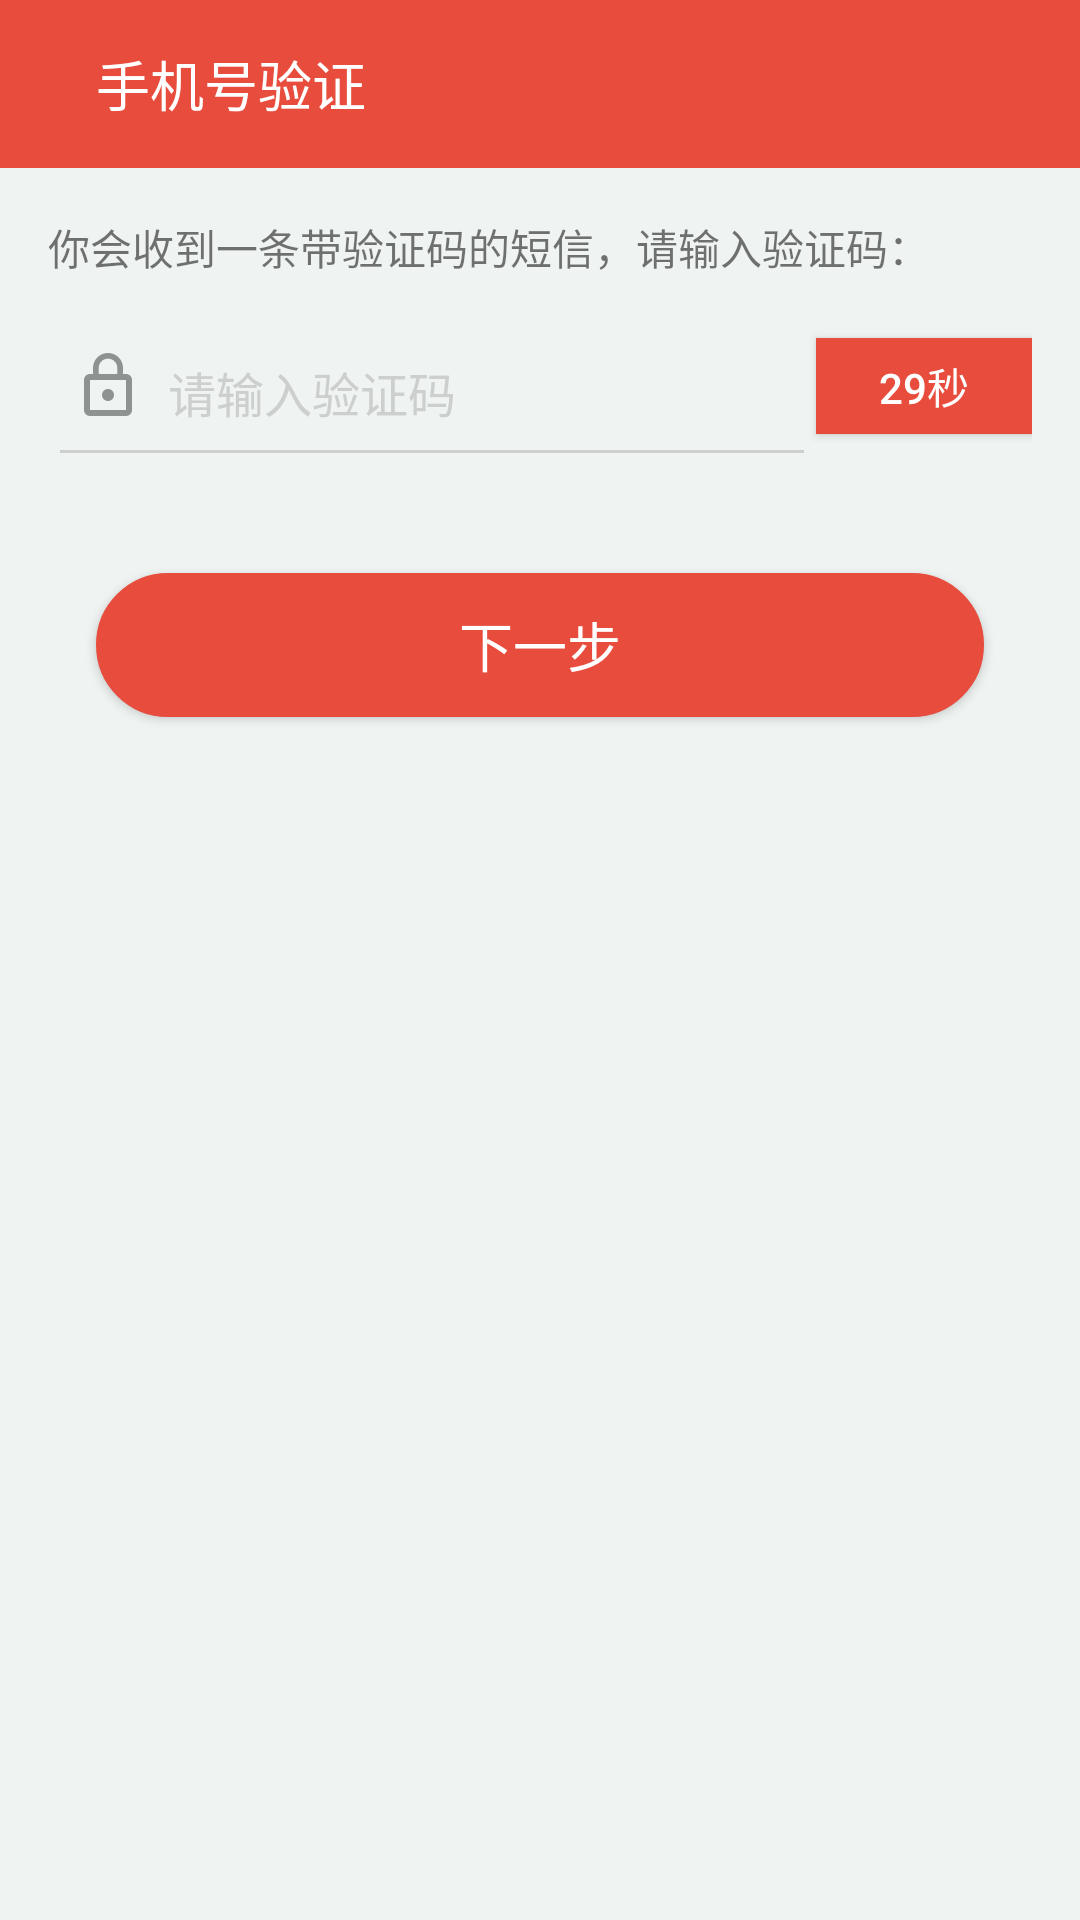

Named icons in this screenshot (1080px×1920px) and their centers, (x=x, y=y):
lock: (x=108, y=384)
